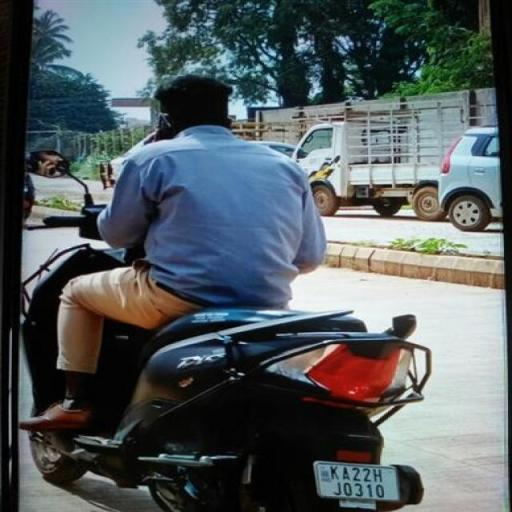numberplate: (317, 460, 406, 506)
using mobile: (142, 106, 186, 155)
